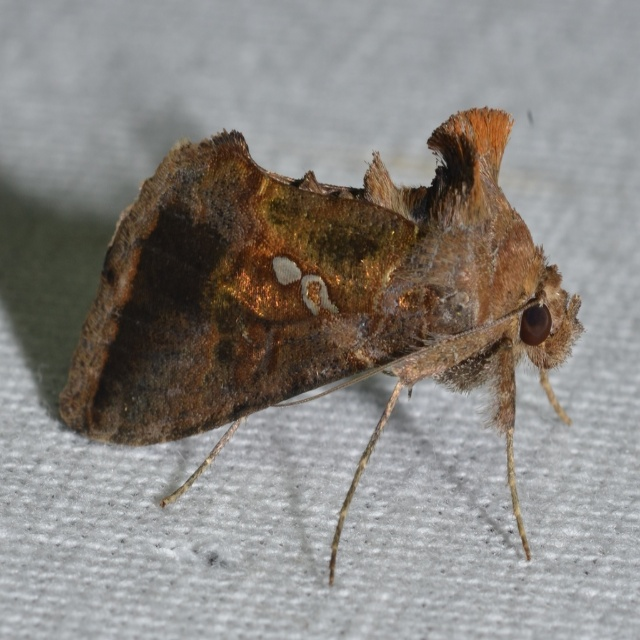Moths and butterflies: (54, 106, 587, 588)
